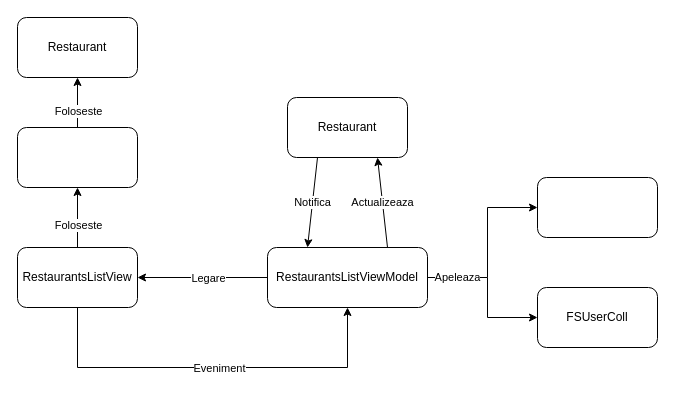
Some shapes in this 675 by 393 pixel diagram are drawn without their labels. Here are the shapes that lost their labels. From the top down, the centre of each, then its label:
At (77,157): "RestaurantCardView".
At (597,207): "FSResColl".
